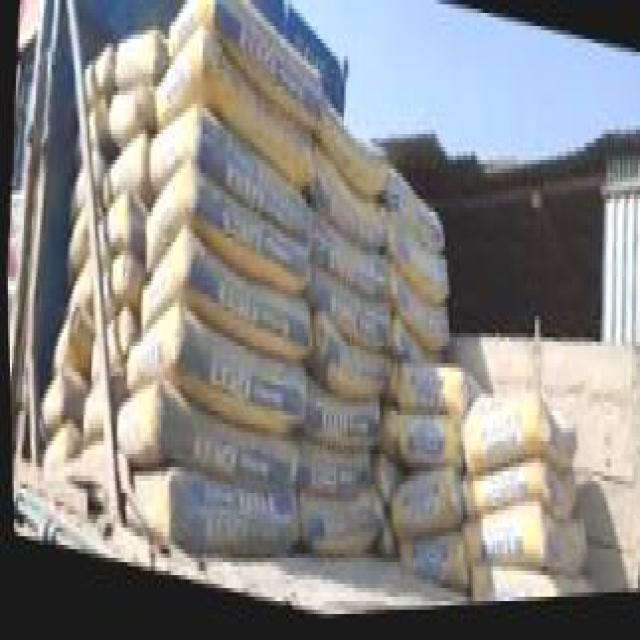gunny_bag: (153, 32, 310, 182), (148, 115, 307, 246), (125, 312, 297, 422), (145, 175, 305, 292), (168, 0, 318, 122), (139, 243, 303, 351), (112, 396, 293, 492), (123, 477, 290, 548), (464, 409, 572, 481), (310, 220, 386, 313), (465, 514, 574, 578), (461, 472, 574, 531), (313, 160, 384, 252), (317, 105, 380, 195), (313, 325, 384, 403), (302, 388, 375, 453), (304, 498, 378, 562), (389, 230, 445, 307), (467, 577, 588, 611), (386, 416, 455, 475), (394, 475, 450, 544), (386, 179, 438, 252), (391, 279, 444, 348), (301, 449, 369, 497), (398, 374, 462, 421), (100, 141, 142, 201), (112, 43, 158, 86), (34, 370, 63, 435)
